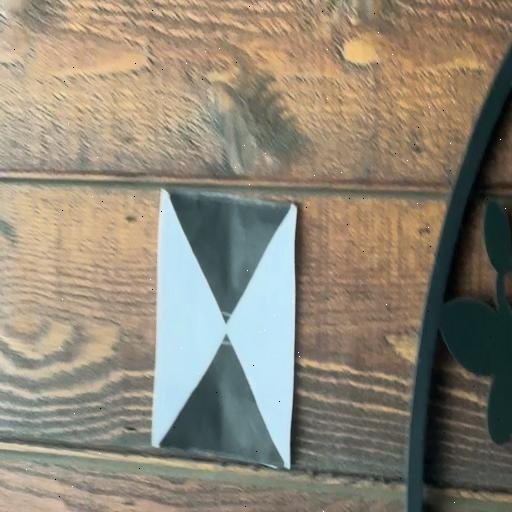target: (152, 189, 296, 466)
